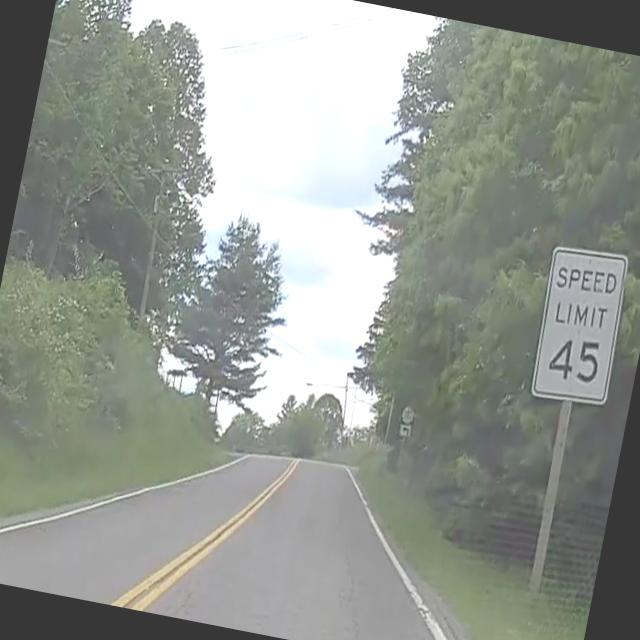Speed Limit Signs: (524, 236, 638, 412)
